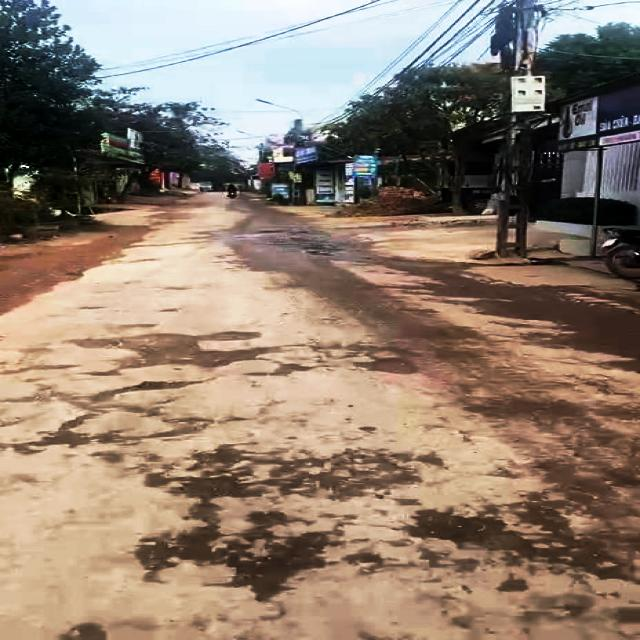pothole: (396, 482, 640, 586), (91, 504, 346, 601), (132, 441, 443, 505), (0, 380, 211, 455), (73, 330, 286, 376), (352, 350, 423, 378), (246, 363, 310, 380)
